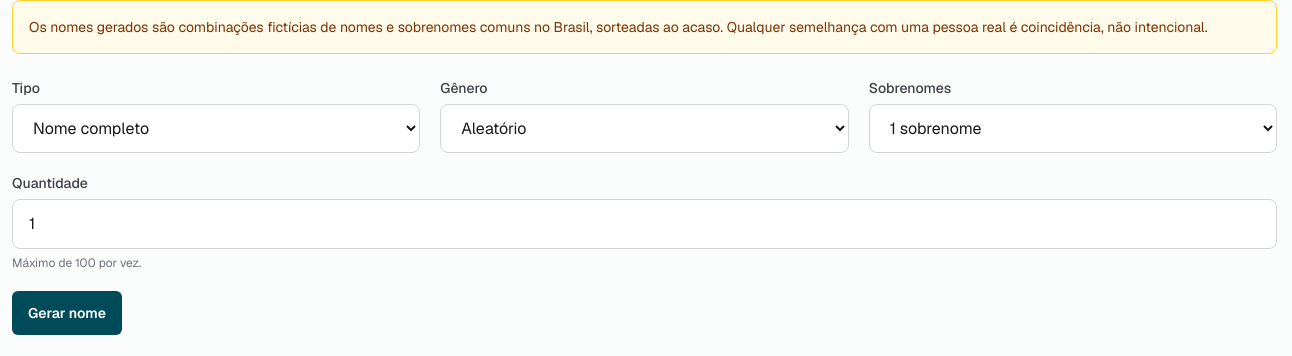
Test case: NameGeneratorTool › mostra erro quando a quantidade é maior que o limite
Type "999" into the field labelled "Quantidade" at (644, 224), box left=12, top=199, right=1277, bottom=249
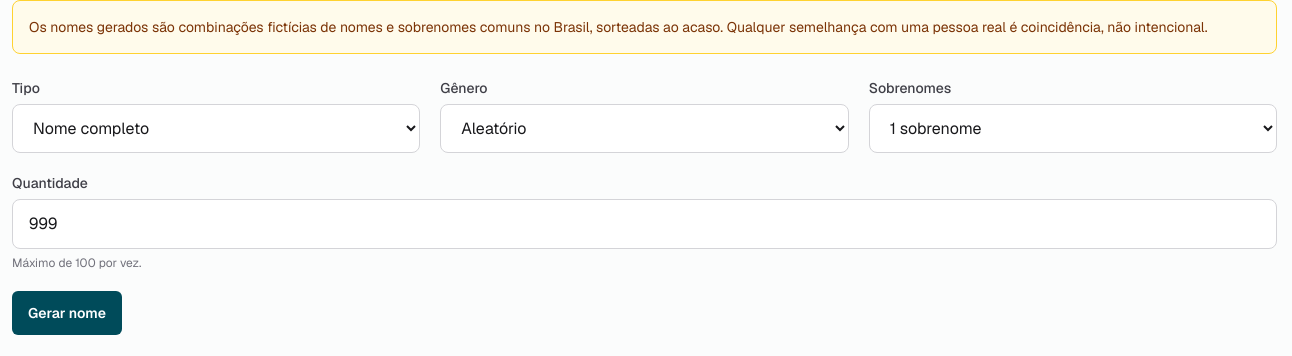
Click the button "Gerar nome" at (67, 313), box left=12, top=291, right=122, bottom=335
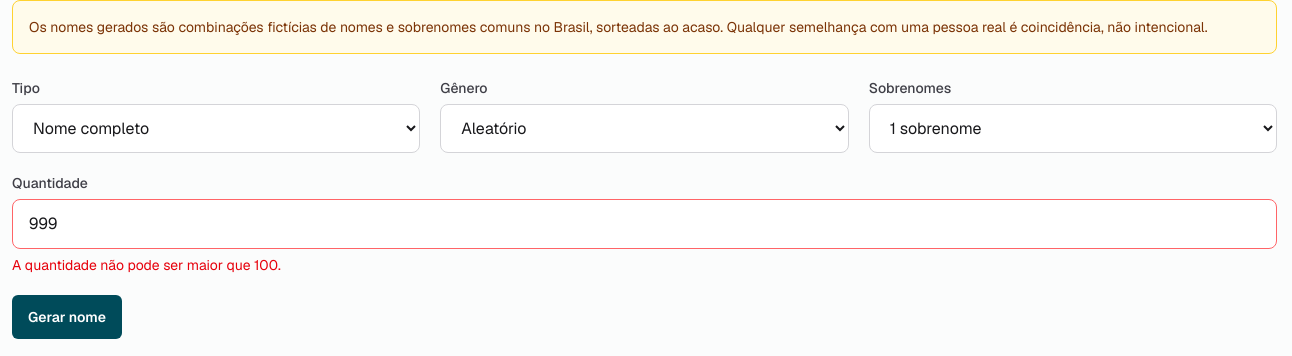
Result: the text "A quantidade não pode ser maior que 100." is shown at left=12, top=256, right=281, bottom=274
